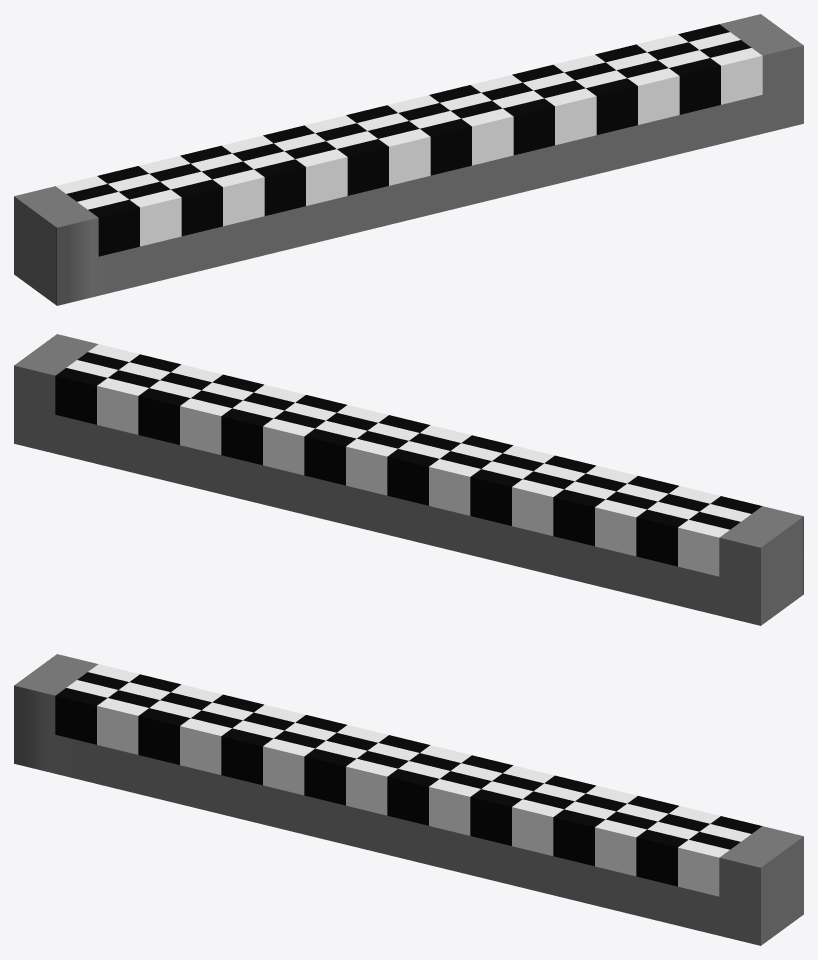
The model's file is meta.fbx.
3 renders of one model, top to bottom at view 1: azimuth 30°, elevation 25°; view 2: azimuth 150°, elevation 25°; view 3: azimuth 330°, elevation 25°, orthographic.
Visible parts, largest first — view 1: Cube; view 2: Cube; view 3: Cube.
Boxes of the visible parts, box(x1,y1,x2,y2) form: Cube: box(14, 14, 803, 305); Cube: box(14, 334, 803, 625); Cube: box(14, 654, 803, 945).
Bounding box in the file's own units: 2000 × 200 × 200.
1 material, 1 textured.
